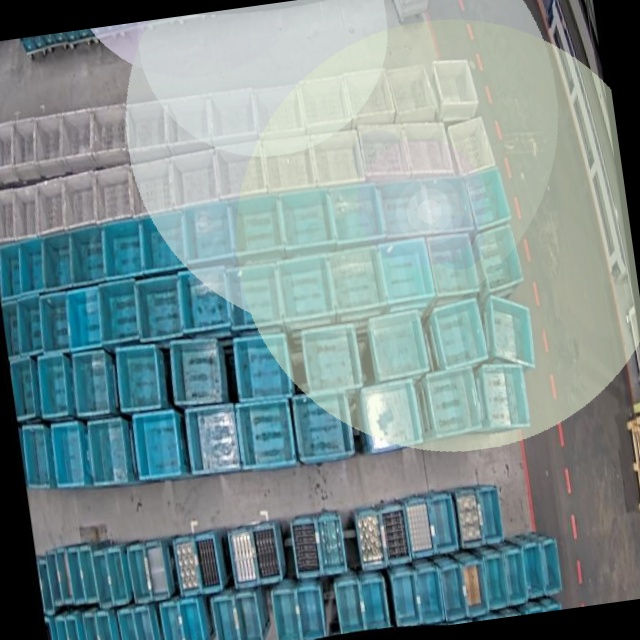Box: (366, 308, 433, 384), (230, 329, 295, 403), (234, 396, 297, 472), (167, 334, 229, 411), (485, 289, 539, 376), (292, 390, 356, 463), (361, 379, 425, 452), (301, 322, 364, 396), (423, 362, 483, 439), (430, 298, 491, 372), (326, 244, 388, 316), (476, 358, 534, 434), (425, 227, 483, 303), (222, 262, 285, 330), (376, 236, 437, 306), (275, 255, 337, 323), (227, 191, 286, 262), (185, 404, 242, 476), (277, 185, 337, 252), (176, 265, 231, 336), (113, 342, 167, 414), (420, 172, 477, 240), (400, 118, 457, 186), (473, 223, 526, 296), (133, 273, 188, 343), (131, 409, 183, 482), (358, 118, 412, 188), (328, 180, 385, 246), (180, 202, 237, 267), (375, 177, 432, 242), (341, 66, 398, 129), (463, 166, 515, 234), (309, 129, 366, 191), (387, 59, 440, 125), (94, 279, 144, 348), (136, 208, 189, 273), (212, 139, 267, 201), (252, 78, 307, 139), (262, 132, 316, 194), (299, 72, 352, 135), (446, 115, 498, 179), (163, 91, 215, 154), (168, 149, 219, 211), (122, 98, 172, 161), (87, 419, 132, 488), (86, 102, 133, 168), (432, 57, 479, 123), (206, 84, 258, 142), (70, 349, 114, 417), (127, 156, 176, 217), (63, 287, 105, 353), (90, 167, 138, 224), (35, 352, 74, 421), (50, 421, 89, 489), (100, 219, 145, 277), (57, 172, 102, 229), (66, 225, 109, 284), (30, 115, 69, 179), (58, 109, 97, 172), (20, 423, 55, 493), (5, 117, 40, 182), (38, 231, 76, 290), (452, 482, 485, 549), (354, 506, 388, 571), (31, 178, 69, 236), (427, 491, 460, 557), (36, 292, 72, 352), (290, 515, 323, 580), (13, 235, 48, 293), (404, 496, 436, 559), (250, 521, 283, 582), (316, 513, 348, 575), (192, 530, 223, 593), (9, 355, 39, 420), (382, 504, 413, 566), (474, 485, 505, 547), (390, 570, 422, 630), (227, 529, 259, 589), (13, 297, 46, 355), (126, 542, 155, 607), (8, 185, 43, 238), (333, 580, 367, 634), (415, 567, 446, 626), (172, 535, 201, 597), (295, 584, 326, 640), (460, 561, 490, 617), (145, 540, 173, 600), (439, 565, 468, 622), (360, 577, 390, 631), (271, 589, 302, 640), (232, 592, 264, 640), (482, 554, 509, 610), (92, 547, 116, 610), (540, 538, 566, 596), (503, 550, 529, 605), (78, 543, 101, 604), (521, 542, 546, 598), (0, 244, 25, 300), (107, 547, 130, 606), (1, 301, 24, 359), (0, 122, 21, 185), (211, 597, 241, 640), (36, 554, 57, 615), (0, 187, 22, 244), (57, 546, 77, 607), (177, 599, 206, 640), (68, 545, 87, 606), (159, 602, 187, 640), (47, 550, 66, 603), (133, 605, 158, 640), (117, 609, 143, 640), (94, 610, 118, 640), (82, 612, 106, 640), (65, 615, 86, 640), (55, 615, 75, 640), (44, 616, 60, 640), (0, 128, 1, 189)
